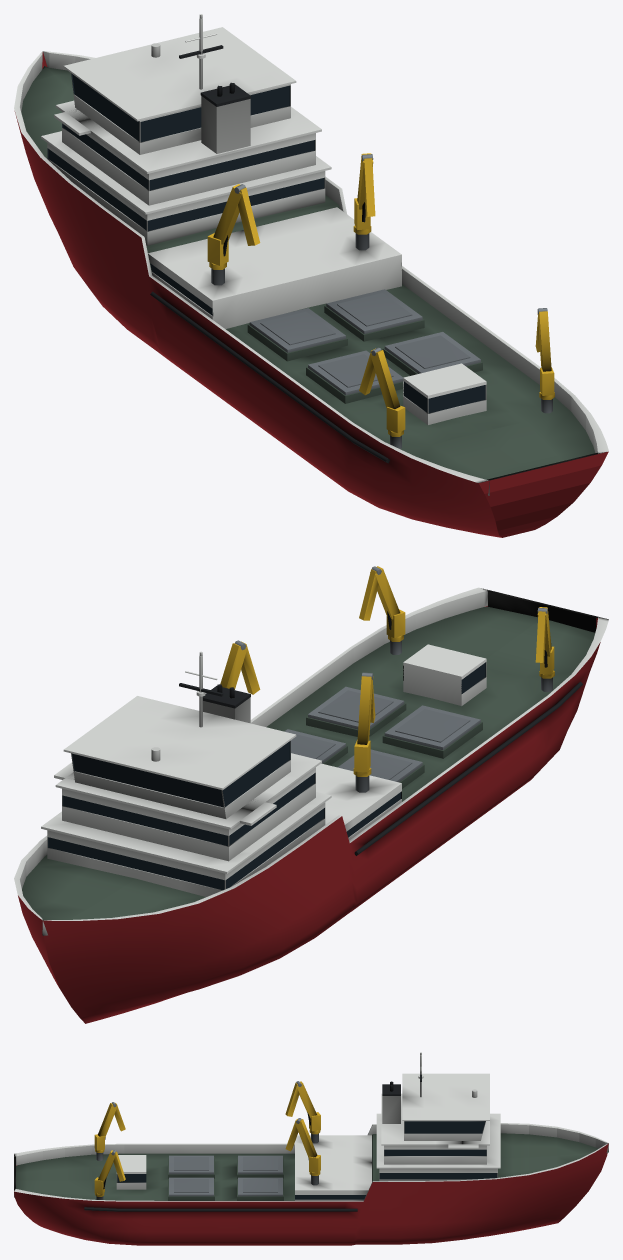
The model's file is wellboat_LOD1.glb.
3 renders of one model, top to bottom at view 1: azimuth 30°, elevation 25°; view 2: azimuth 150°, elevation 25°; view 3: azimuth 270°, elevation 25°, orthographic. The views are drawn at different scales.
Visible parts, largest first — view 1: Superstructure, Hull, Deck, Windows, Machinery, Crane, Rubber; view 2: Superstructure, Hull, Deck, Windows, Machinery, Crane, Rubber; view 3: Hull, Superstructure, Deck, Machinery, Windows, Crane, Rubber.
Part boxes in pixels (x1,y1,x2,y2): Superstructure: (14,14,608,495); Hull: (14,52,608,537); Deck: (21,66,594,479); Windows: (47,74,485,413); Machinery: (211,154,552,448); Crane: (207,153,554,436); Rubber: (150,45,389,463); Superstructure: (14,587,608,935); Hull: (18,606,600,1023); Deck: (22,606,595,934); Windows: (48,662,485,890); Machinery: (235,566,552,792); Crane: (220,566,554,776); Rubber: (179,611,582,855); Hull: (14,1143,608,1245); Superstructure: (14,1052,608,1201); Deck: (16,1133,608,1200); Machinery: (96,1081,318,1199); Windows: (117,1121,497,1199); Crane: (94,1081,320,1196); Rubber: (84,1074,421,1211).
Bounding box in the file's own units: 18.5 × 24.32 × 76.96.
